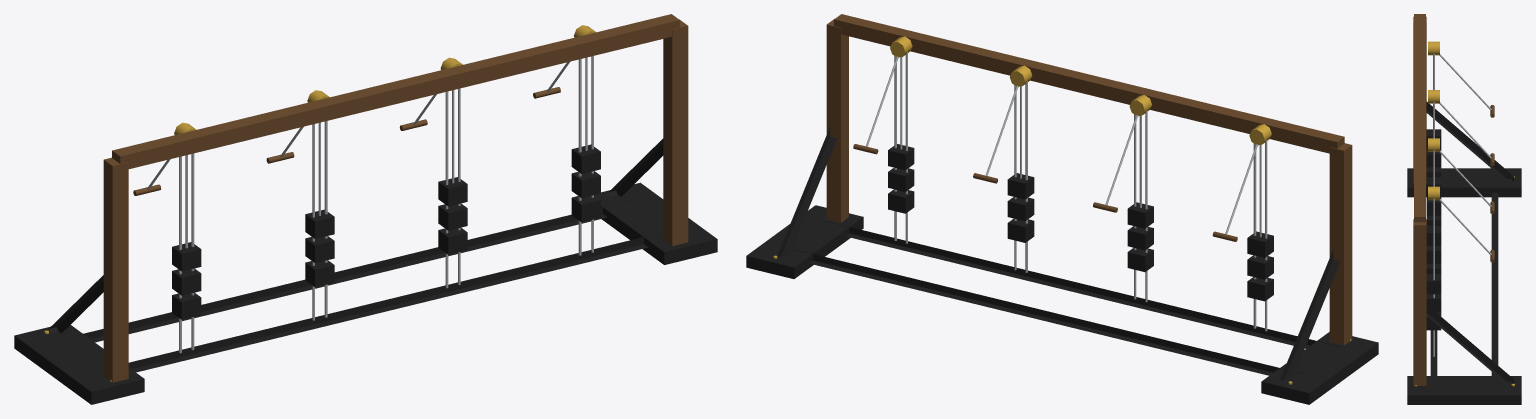
3 renders of one model, left to right at view 1: azimuth 30°, elevation 25°; view 2: azimuth 150°, elevation 25°; view 3: azimuth 270°, elevation 25°, orthographic. The views are drawn at different scales.
Parts seen in each view (by area): view 1: parametric-variant-machine-1st-pub-b01a3f249de71225b2bd; view 2: parametric-variant-machine-1st-pub-b01a3f249de71225b2bd; view 3: parametric-variant-machine-1st-pub-b01a3f249de71225b2bd.
Boxes of the visible parts, x1,y1,x2,y2 form: parametric-variant-machine-1st-pub-b01a3f249de71225b2bd: [14, 14, 717, 404]; parametric-variant-machine-1st-pub-b01a3f249de71225b2bd: [746, 14, 1378, 404]; parametric-variant-machine-1st-pub-b01a3f249de71225b2bd: [1407, 14, 1521, 404].
Size of the model in its own units: 3.53 by 1.28 by 0.752.
